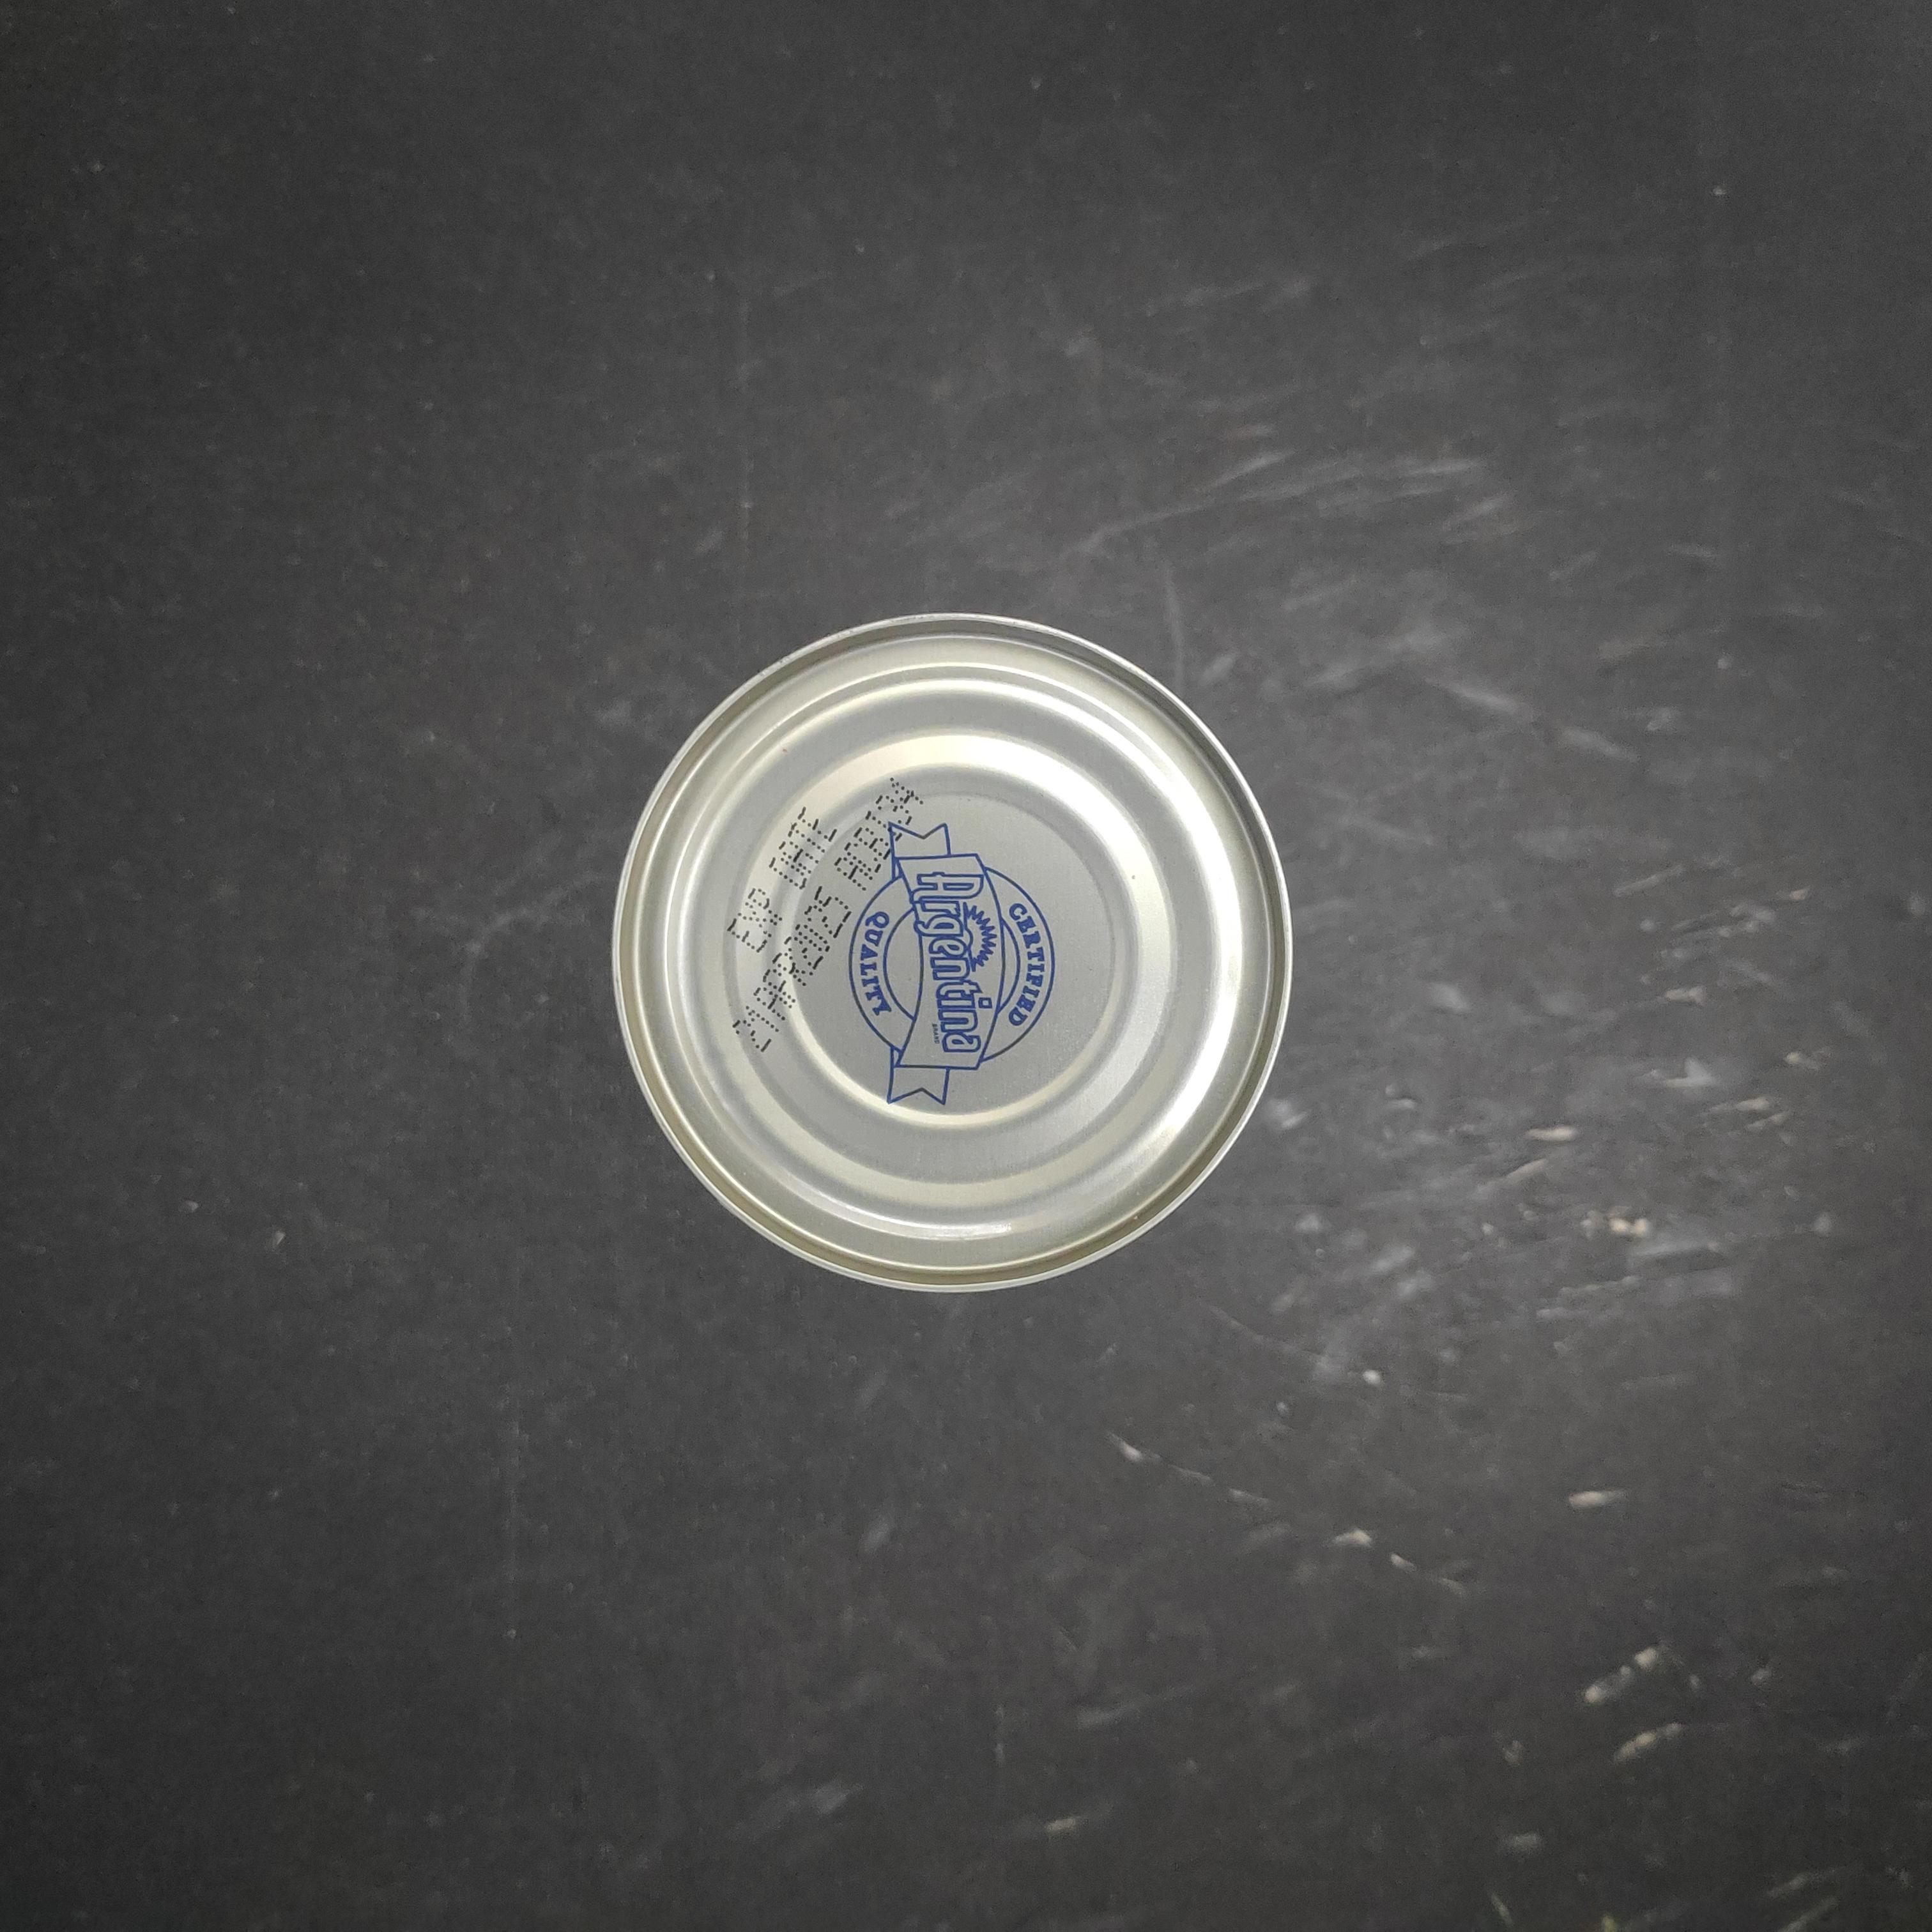No defect: (609, 598, 1307, 1309)
